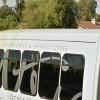Tree: (9, 2, 100, 28)
